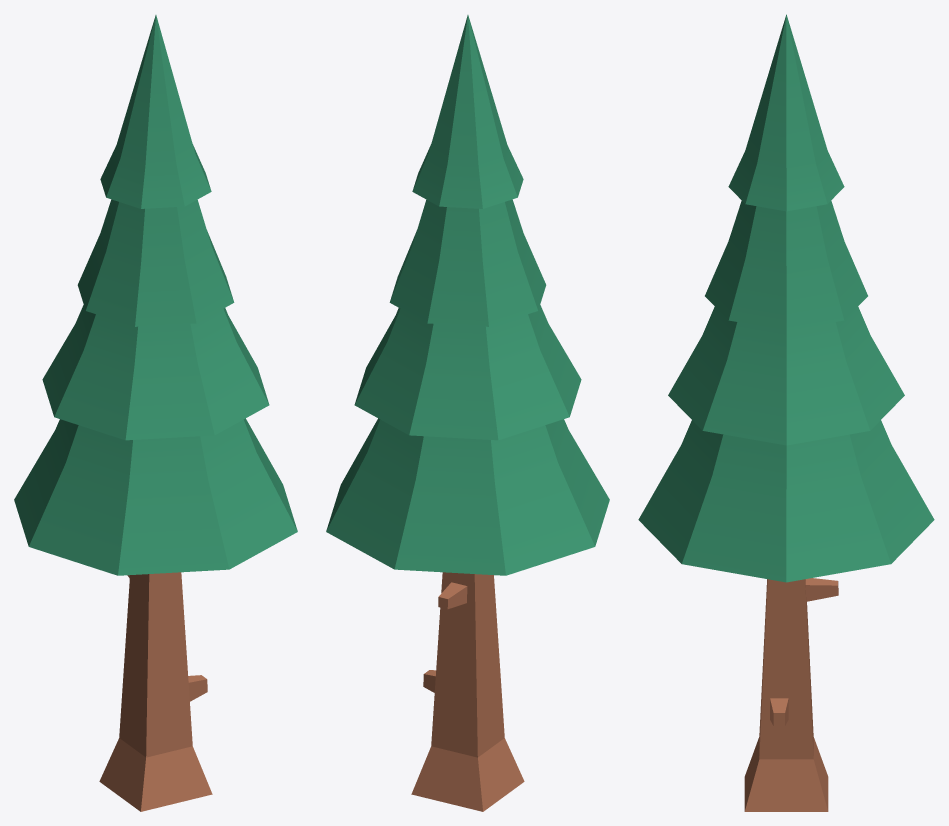
Rendered from tree_pine.glb.
3 views of the same model, side by side, from view 1: azimuth 30°, elevation 25°; view 2: azimuth 150°, elevation 25°; view 3: azimuth 270°, elevation 25° (orthographic).
Visible parts, largest first — view 1: tree_pine; view 2: tree_pine; view 3: tree_pine.
Boxes of the visible parts, x1,y1,x2,y2 form: tree_pine: (14, 15, 297, 811); tree_pine: (326, 15, 609, 811); tree_pine: (638, 14, 934, 811).
Size of the model in its own units: 0.532 by 1.55 by 0.532.
